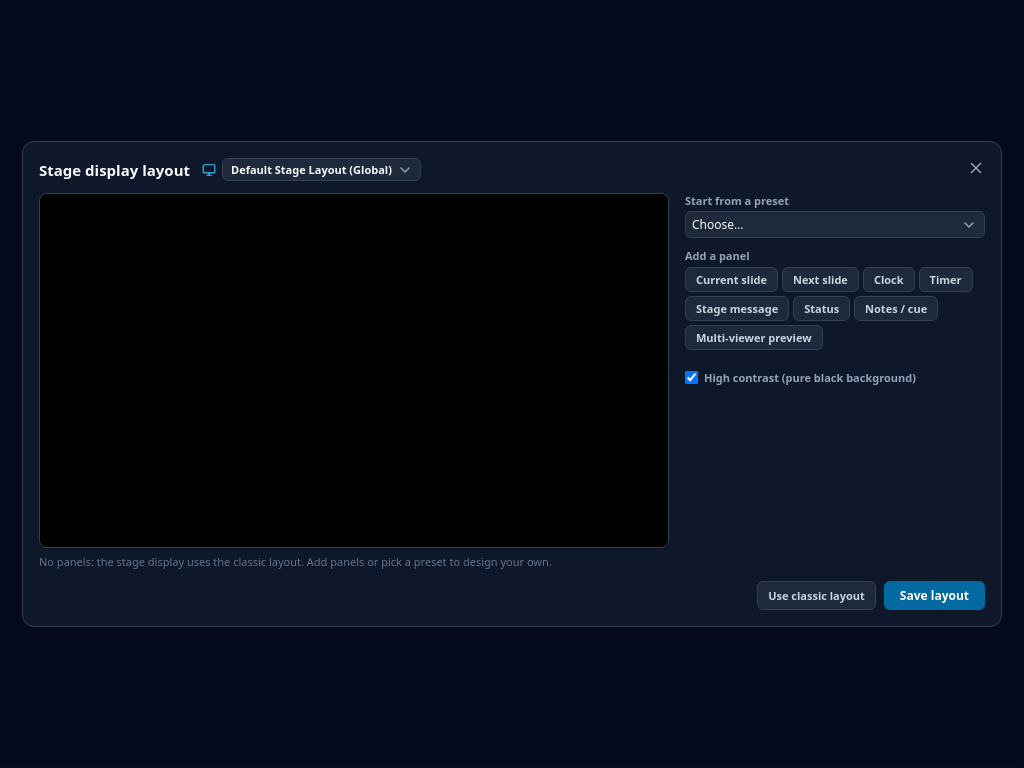
Test: StageLayoutEditor › a preset fills the canvas, and the classic button clears it
The image size is (1024, 768).
Select "Lyrics only (large current slide)" in the dropdown with test id "stage-preset" at (835, 225), box [685,211,985,238]
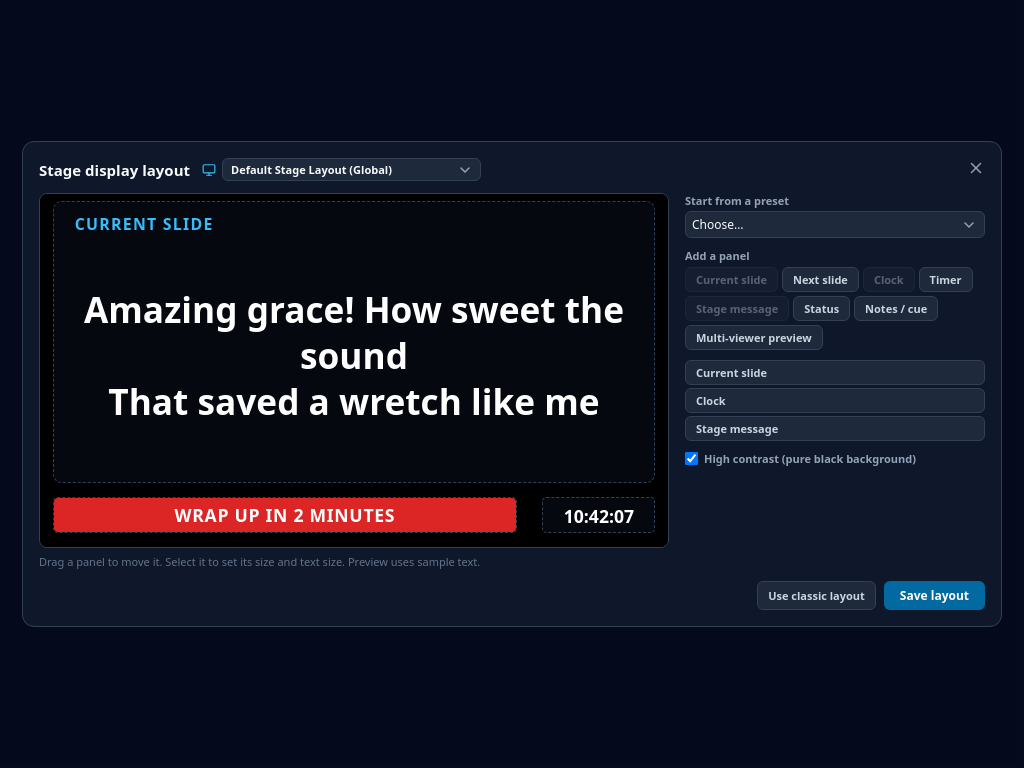
expect the element with test id "stage-panel-current" is shown: met, box [52,201,655,483]
Click the button with test id "stage-use-classic" at (817, 595), box [757,581,876,610]
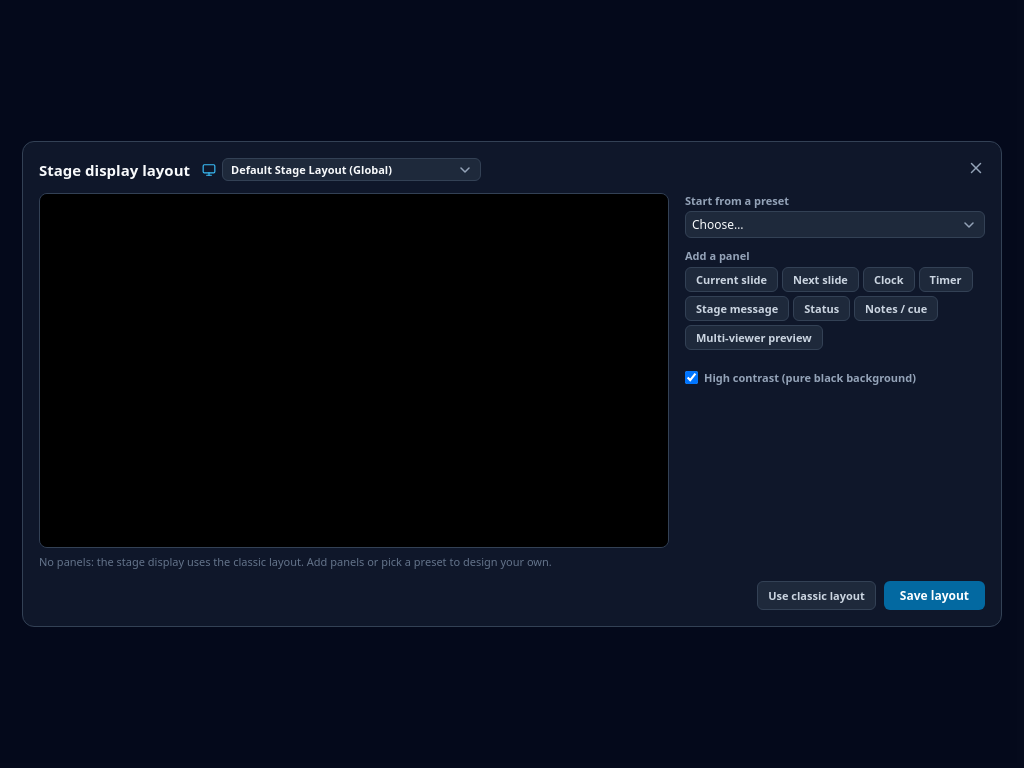
expect no buttons with test id "panel-row" are shown: met
